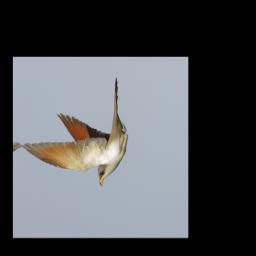Cuckoo: (19, 73, 134, 187)
